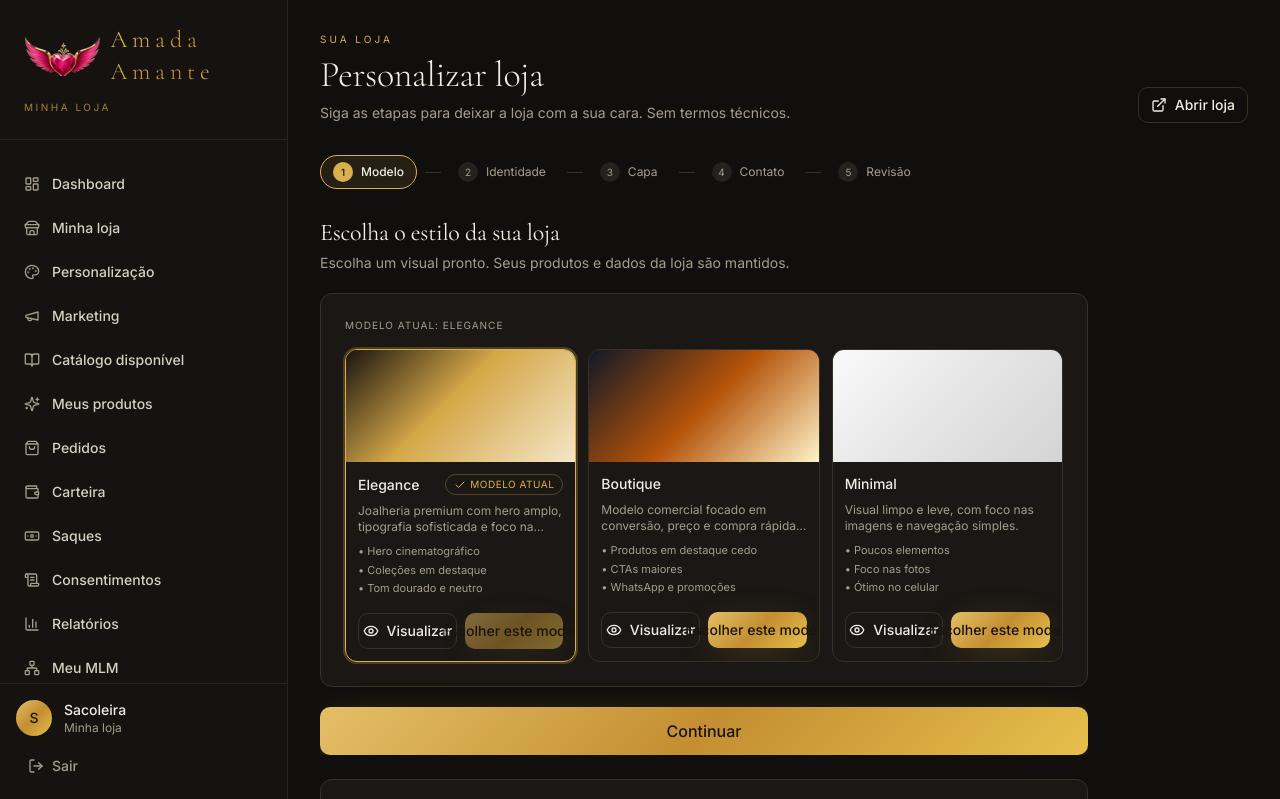
customization wizard › preenche apresentação com sugestões
Click the button with test id "customization-continue" at (704, 730), box 320,706 -> 1088,754
(page scrolled)
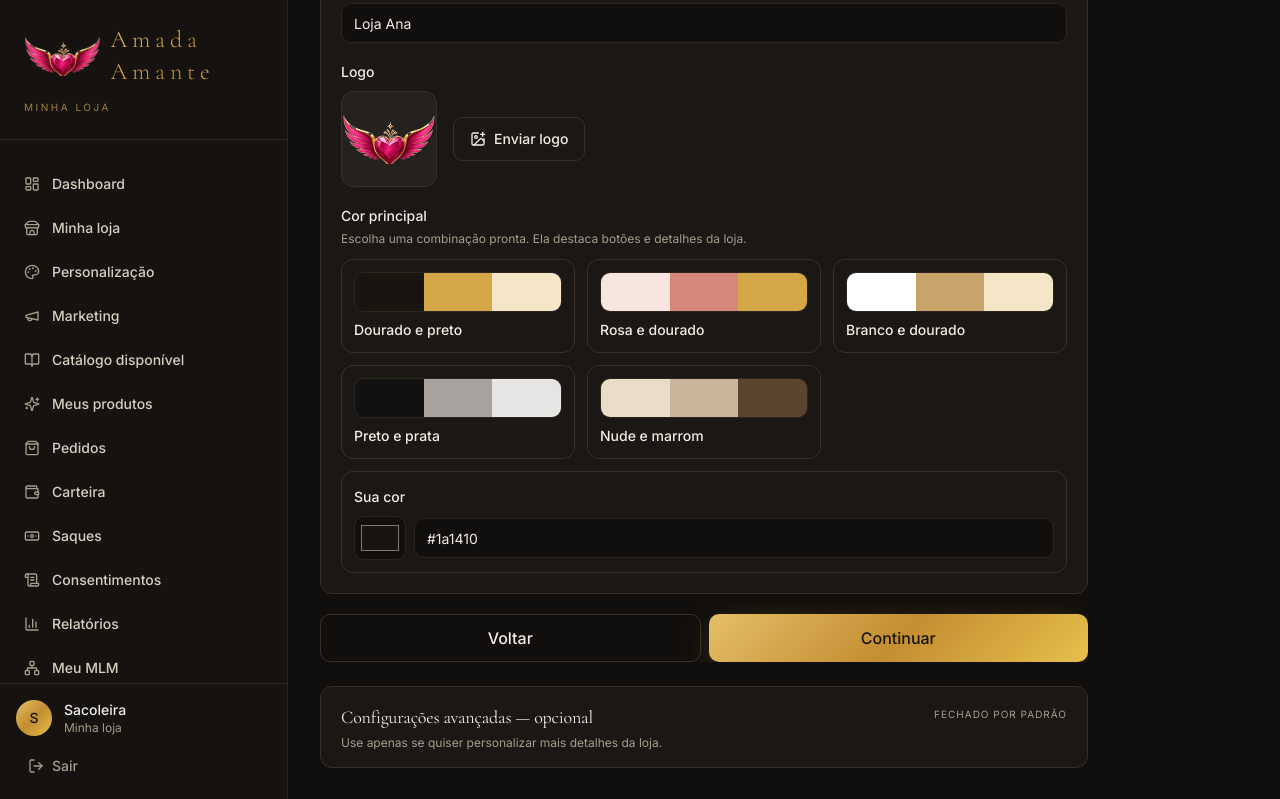
Click the button with test id "customization-continue" at (898, 638), box 708,614 -> 1088,662
(page scrolled)
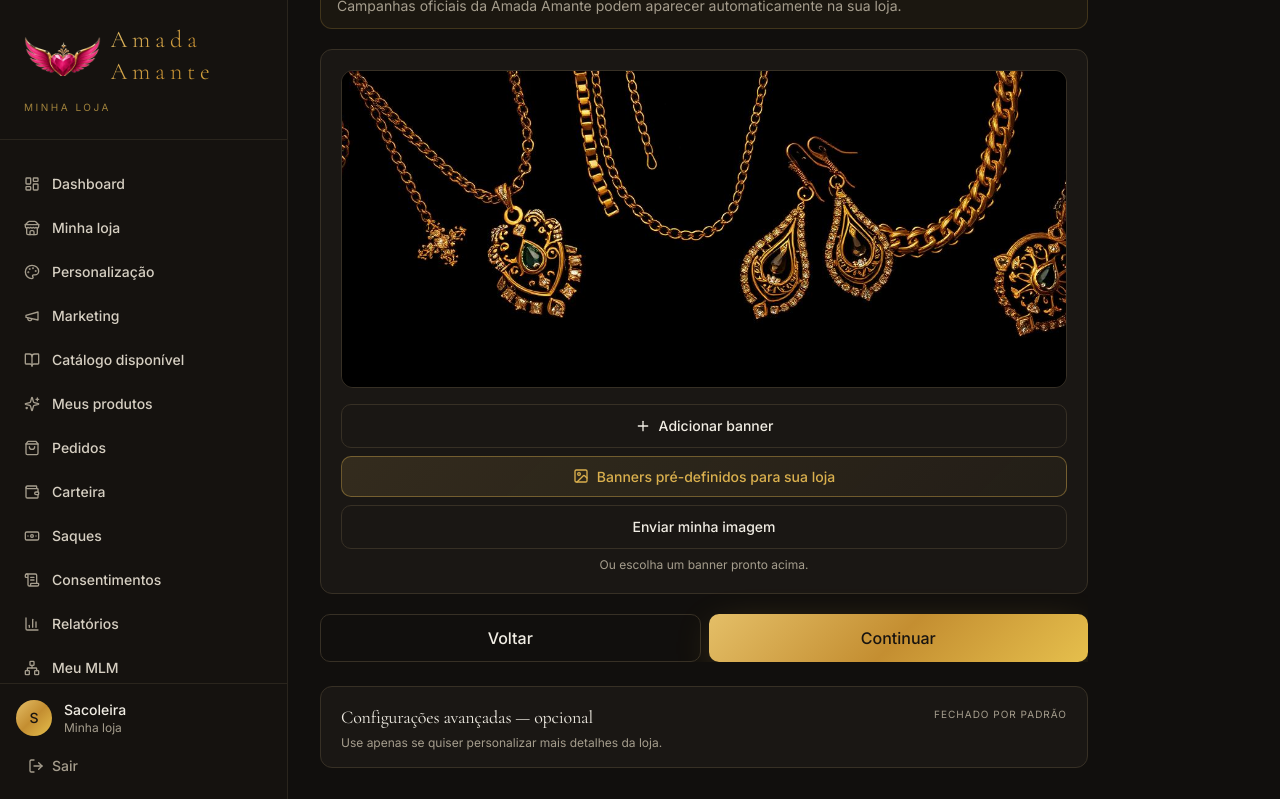
Click the button with test id "customization-continue" at (898, 638), box 708,614 -> 1088,662
(page scrolled)
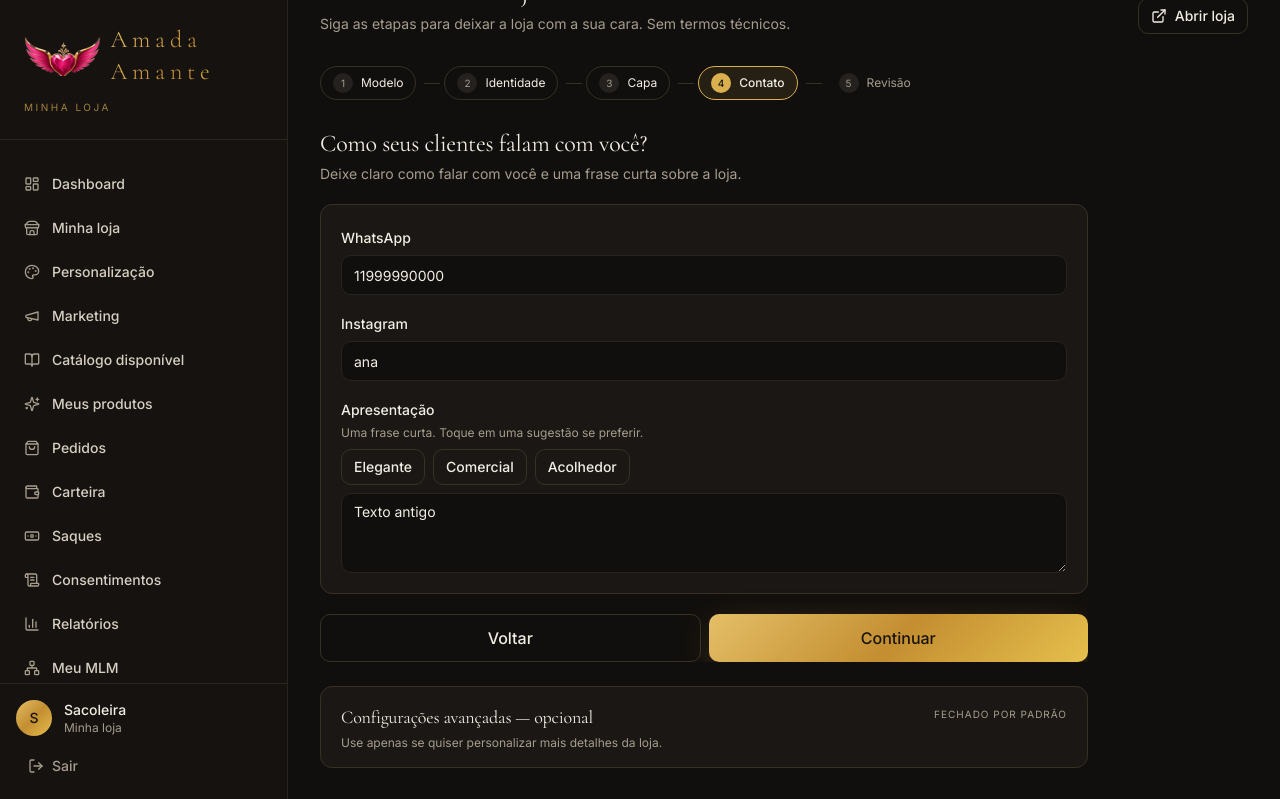
Click the button with test id "customization-desc-elegant" at (383, 467), box 341,449 -> 425,485
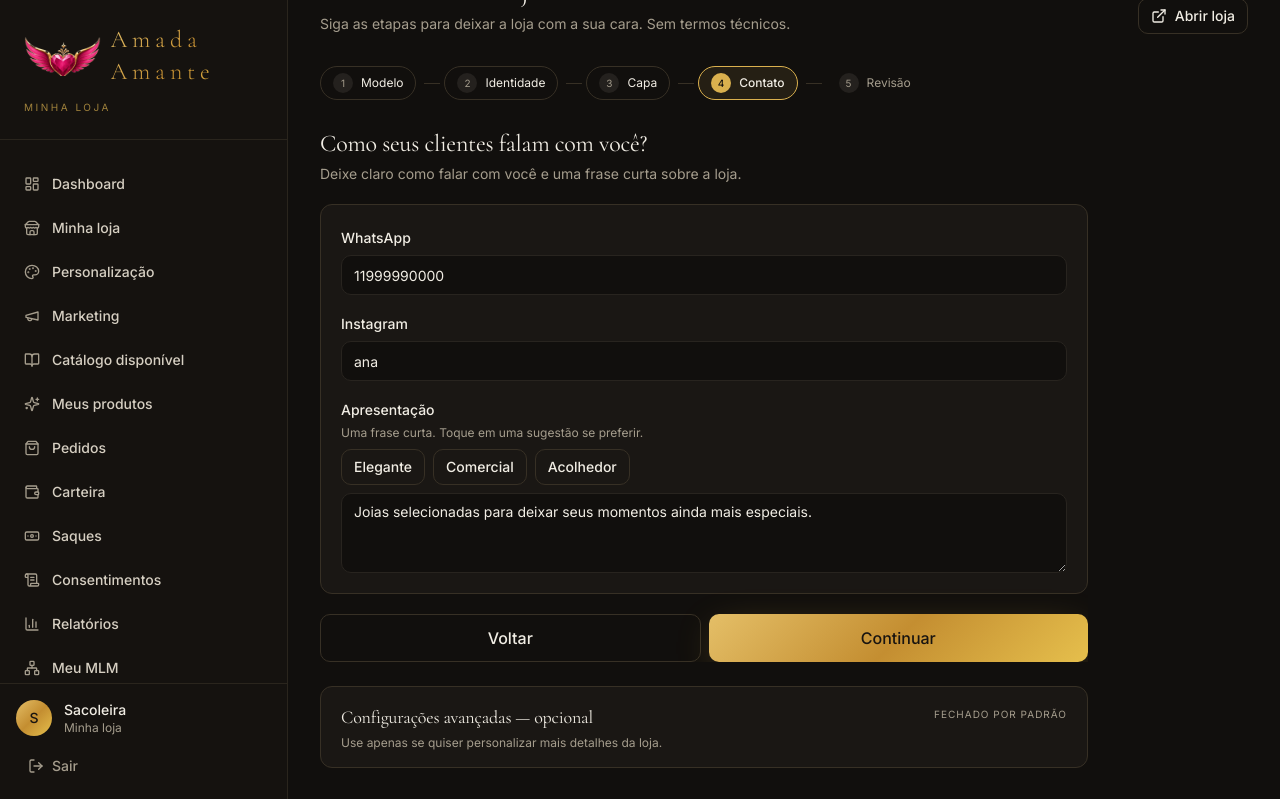
Expected: the text box with test id "customization-description" holds "Joias selecionadas para deixar seus momentos ainda mais especiais.", 341,493 -> 1067,573
